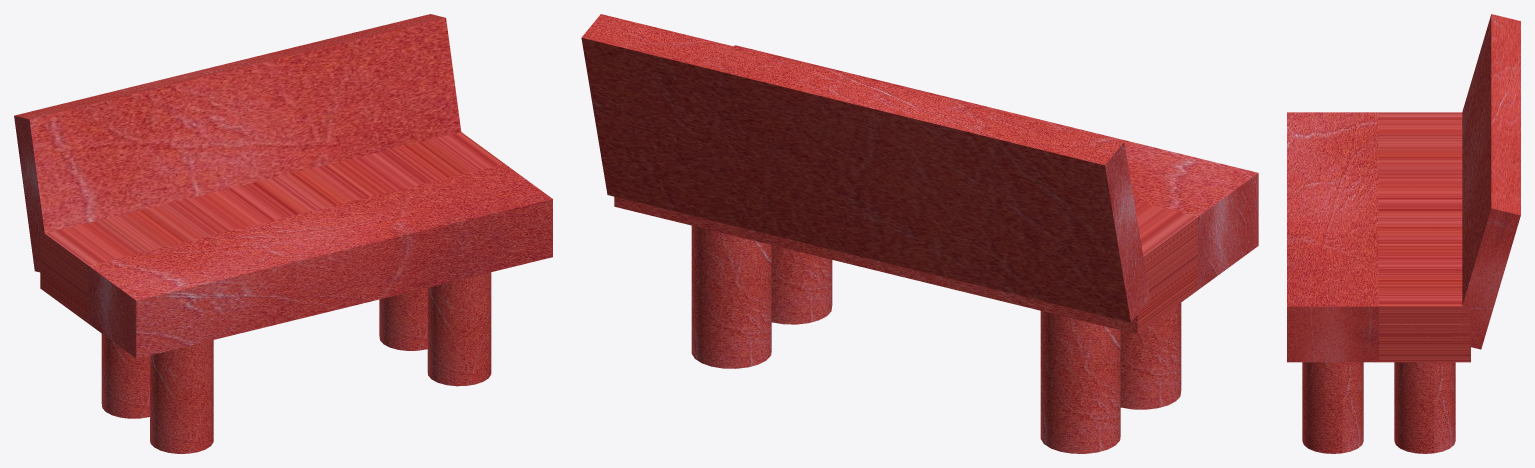
The model's file is Bench.fbx.
3 views of the same model, side by side, from view 1: azimuth 30°, elevation 25°; view 2: azimuth 150°, elevation 25°; view 3: azimuth 270°, elevation 25° (orthographic). The views are drawn at different scales.
Visible parts, largest first — view 1: pCube1, pCube2, pCylinder1, pCylinder2, pCylinder4, pCylinder3; view 2: pCube2, pCube1, pCylinder3, pCylinder4, pCylinder2, pCylinder1; view 3: pCube1, pCube2, pCylinder1, pCylinder3.
Part boxes in pixels (x1,y1,x2,y2): pCube1: (40,132,552,358); pCube2: (14,14,461,272); pCylinder1: (427,272,491,386); pCylinder2: (150,340,213,453); pCylinder4: (101,334,149,418); pCylinder3: (379,288,427,350); pCube2: (581,14,1150,322); pCube1: (614,45,1258,334); pCylinder3: (691,225,771,368); pCylinder4: (1040,311,1120,453); pCylinder2: (1120,303,1181,409); pCylinder1: (771,245,832,324); pCube1: (1287,112,1470,362); pCube2: (1453,14,1520,349); pCylinder1: (1302,362,1363,453); pCylinder3: (1394,362,1455,453).
Size of the model in its own units: 15 by 9.54 by 7.63.
1 material, 1 textured.
